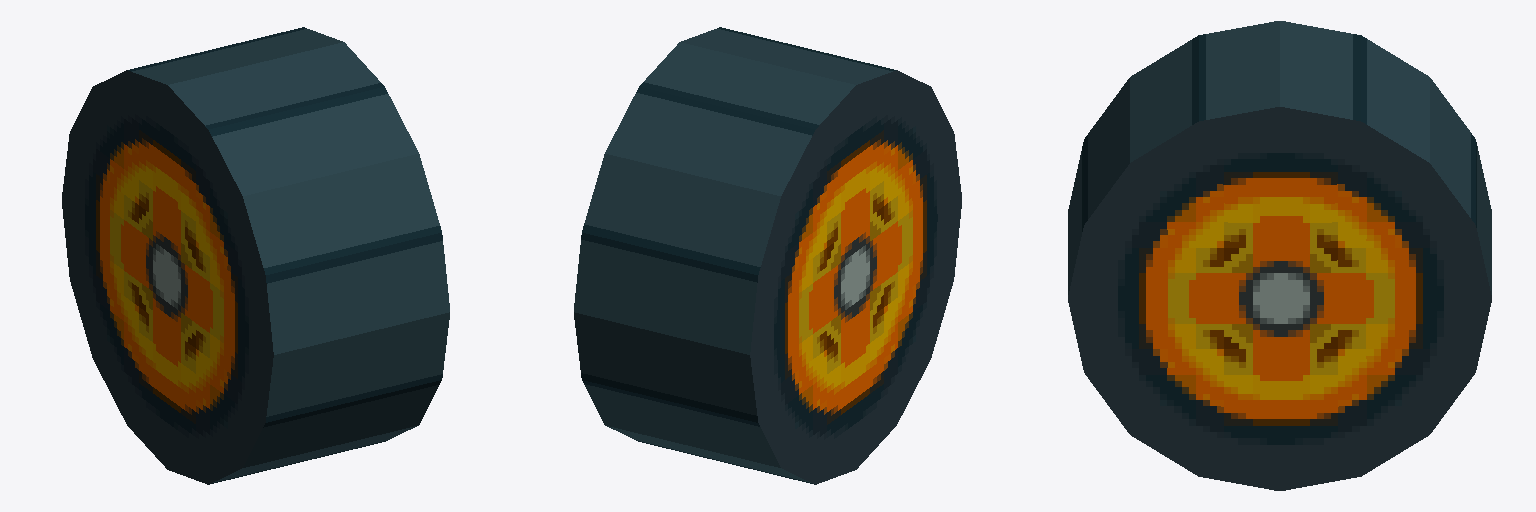
3 renders of one model, left to right at view 1: azimuth 30°, elevation 25°; view 2: azimuth 150°, elevation 25°; view 3: azimuth 270°, elevation 25°, orthographic.
Parts seen in each view (by area): view 1: polygon0.001; view 2: polygon0.001; view 3: polygon0.001.
Boxes of the visible parts, <box> form: polygon0.001: <box>62,27,449,484</box>; polygon0.001: <box>574,27,961,484</box>; polygon0.001: <box>1068,21,1491,490</box>.
Bounding box in the file's own units: 0.0942 × 0.1963 × 0.1963.
1 materials, 1 textured.